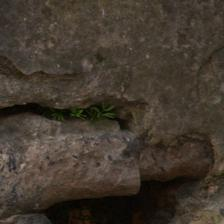Crack: (34, 24, 103, 67), (114, 71, 150, 101)
